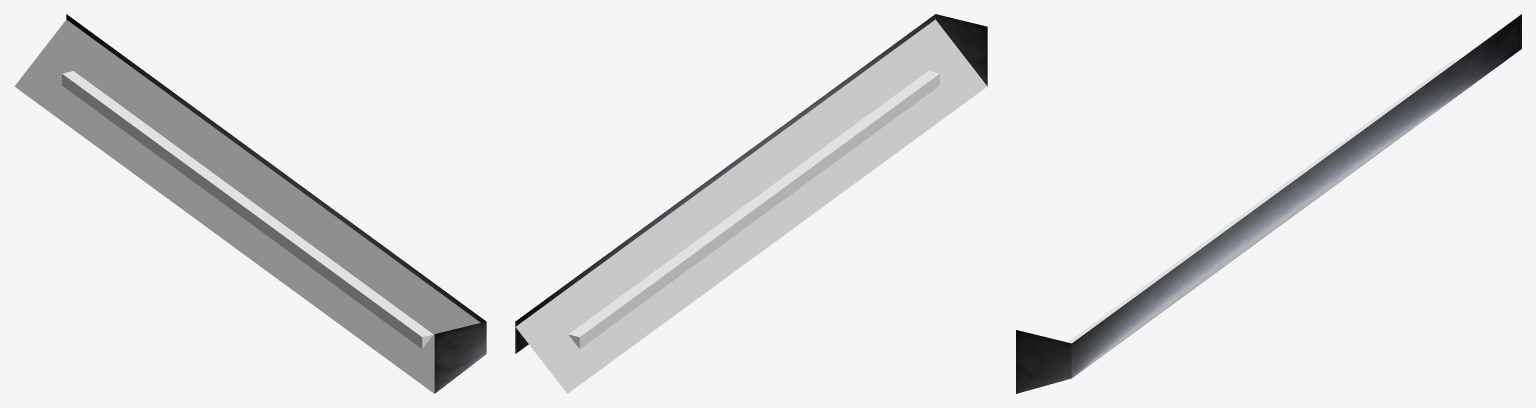
Rendered from light.fbx.
3 views of the same model, side by side, from view 1: azimuth 30°, elevation 25°; view 2: azimuth 150°, elevation 25°; view 3: azimuth 330°, elevation 25° (orthographic). The views are drawn at different scales.
Parts seen in each view (by area): view 1: wall11l.002, wall11l.001, wall11l.004; view 2: wall11l.002, wall11l.001, wall11l.004; view 3: wall11l.004, wall11l.001.
Part boxes in pixels (x1=…): wall11l.002: x1=14, y1=19, x2=480, y2=393; wall11l.001: x1=62, y1=71, x2=433, y2=348; wall11l.004: x1=66, y1=14, x2=486, y2=393; wall11l.002: x1=516, y1=19, x2=987, y2=393; wall11l.001: x1=568, y1=71, x2=939, y2=348; wall11l.004: x1=515, y1=14, x2=987, y2=353; wall11l.004: x1=1016, y1=14, x2=1521, y2=393; wall11l.001: x1=1067, y1=60, x2=1456, y2=343.
Bounding box in the file's own units: 10 × 11 × 140.
